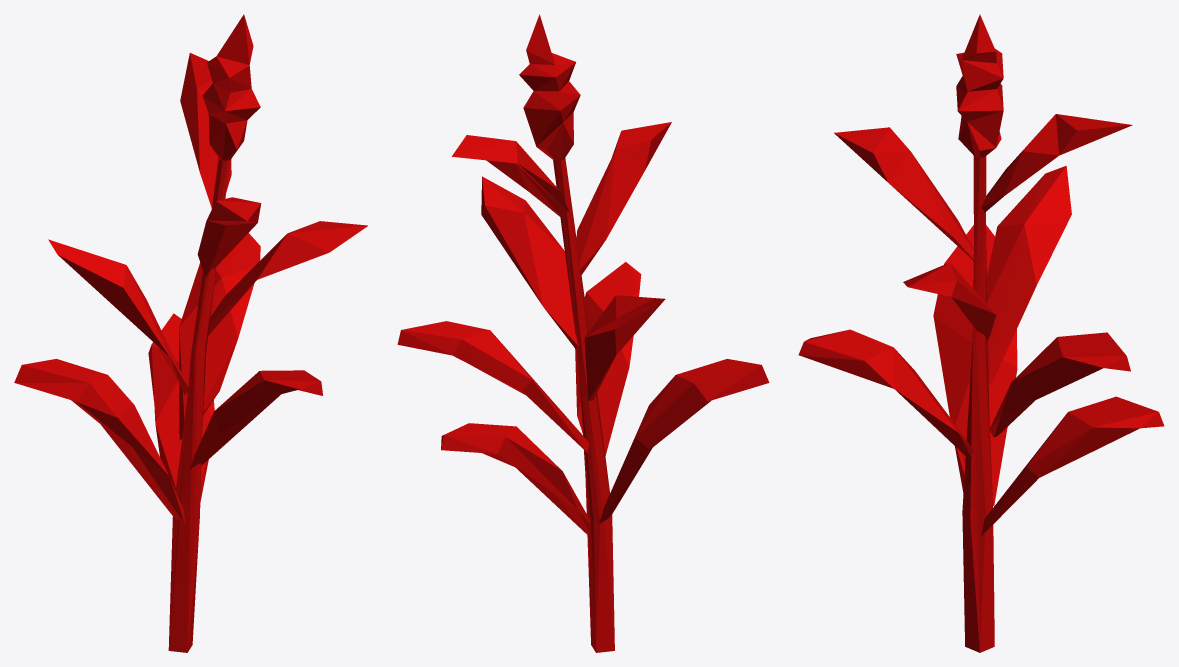
Rendered from synty-plant-flowers-01.gltf.
3 renders of one model, left to right at view 1: azimuth 30°, elevation 25°; view 2: azimuth 150°, elevation 25°; view 3: azimuth 270°, elevation 25°, orthographic. The views are drawn at different scales.
Visible parts, largest first — view 1: SM_Plant_Flowers_01; view 2: SM_Plant_Flowers_01; view 3: SM_Plant_Flowers_01.
Part boxes in pixels (x1=…): SM_Plant_Flowers_01: x1=14, y1=14, x2=367, y2=652; SM_Plant_Flowers_01: x1=397, y1=14, x2=769, y2=652; SM_Plant_Flowers_01: x1=798, y1=14, x2=1164, y2=652.
Bounding box in the file's own units: 0.7534 × 1.39 × 0.6911.
